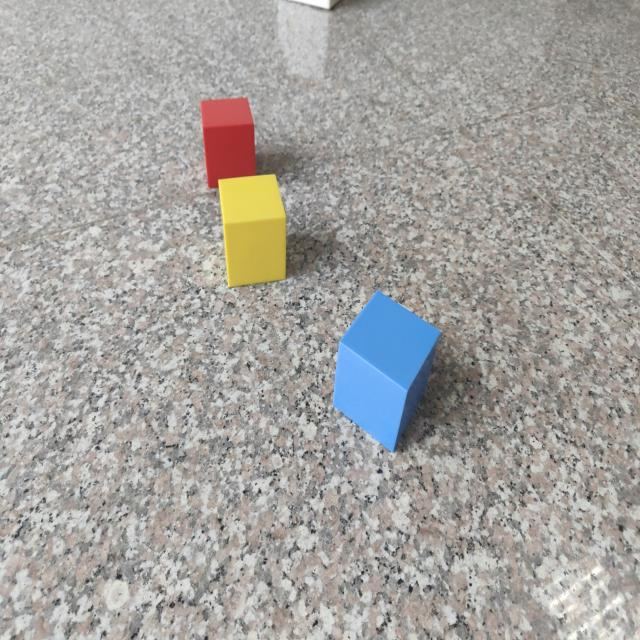blue: (331, 292, 440, 455)
red: (201, 97, 258, 190)
yellow: (211, 172, 288, 289)
